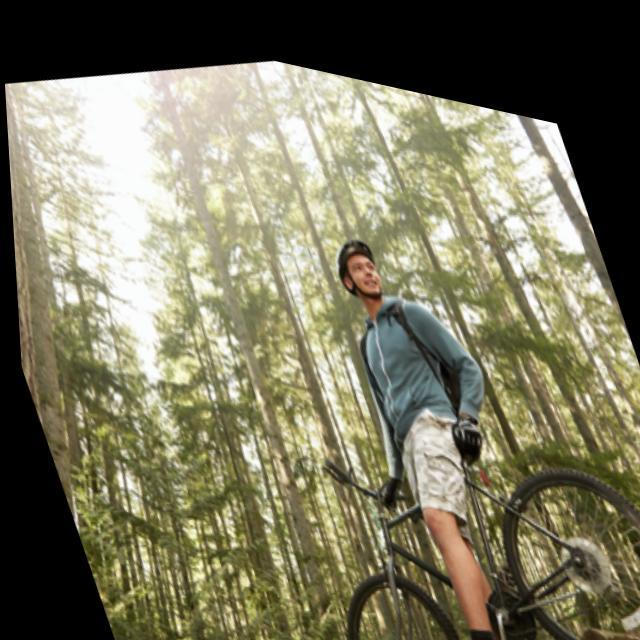Helmet: (336, 236, 389, 302)
